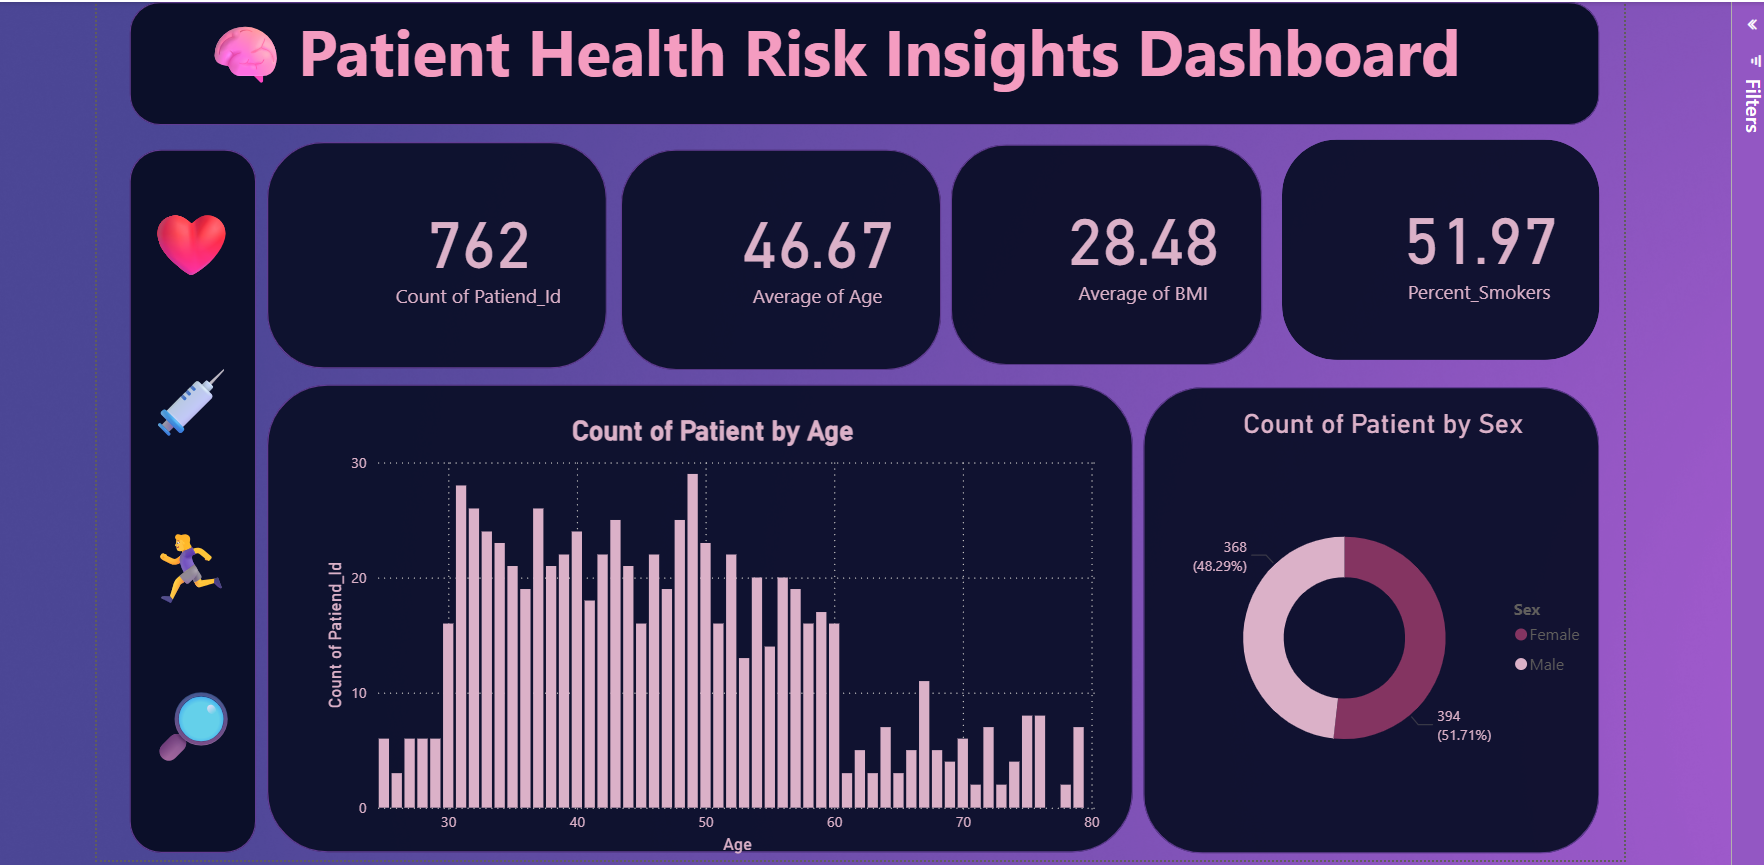

The dashboard page shown, as its layout file describes it:
{"tool":"powerbi","page":{"name":"Overview","canvas":[1280,720],"ordinal":0},"visuals":[{"type":"shape","box":[143.1,119.4,284.9,180.4],"z":0},{"type":"shape","box":[877.5,322.5,382.5,391.2],"z":1000},{"type":"card","fields":{"Values":["CountNonNull(CVD Dataset.Patiend_Id)"]},"box":[169.2,114.4,231.4,171.7],"z":2000},{"type":"shape","box":[142.5,321.2,726.2,392.5],"z":3000},{"type":"shape","box":[439.1,123.2,268.7,176.6],"z":4000},{"type":"shape","box":[716.5,119.4,261.2,180.4],"z":5000},{"type":"card","fields":{"Values":["Avg(CVD Dataset.Age)"]},"box":[461.5,123.2,223.9,160.5],"z":6000},{"type":"card","fields":{"Values":["Avg(CVD Dataset.BMI)"]},"box":[741.4,136.8,210.2,129.4],"z":7000},{"type":"donutChart","title":"Count of Patient by Sex","fields":{"Category":["CVD Dataset.Sex"],"Y":["CountNonNull(CVD Dataset.Patiend_Id)"]},"box":[900,340,358.8,361.2],"z":8000},{"type":"columnChart","title":"Count of Patient by Age","fields":{"Category":["CVD Dataset.Age"],"Y":["CountNonNull(CVD Dataset.Patiend_Id)"]},"box":[186.2,346.2,660,373.8],"z":9000},{"type":"shape","box":[993.9,123.2,266.2,176.6],"z":10000},{"type":"shape","box":[27.4,0,1232.8,103.2],"z":11000},{"type":"card","fields":{"Values":["CVD Dataset.Percent_Smokers"]},"box":[1006.4,133.1,241.3,135.6],"z":12000},{"type":"shape","box":[27.5,123.8,106.2,590],"z":13000},{"type":"textbox","box":[38.6,0,1209.1,93.3],"z":14000},{"type":"actionButton","box":[27.4,136.8,103.2,124.4],"z":15000},{"type":"actionButton","box":[27.4,273.7,103.2,121.9],"z":16000},{"type":"actionButton","box":[27.4,411.8,103.2,121.9],"z":17000},{"type":"actionButton","box":[29.9,543.6,103.2,121.9],"z":18000}]}

Visuals, with their boxes on the page's 1280x720 design canvas (x1, y1, x2, y2). These are canvas units, not pixel positions in the 1764x865 screenshot, which may show the page scaled, cropped or inside an application window:
shape: <region>143, 119, 428, 300</region>
shape: <region>878, 322, 1260, 714</region>
card - CountNonNull(CVD Dataset.Patiend_Id): <region>169, 114, 401, 286</region>
shape: <region>142, 321, 869, 714</region>
shape: <region>439, 123, 708, 300</region>
shape: <region>716, 119, 978, 300</region>
card - Avg(CVD Dataset.Age): <region>462, 123, 685, 284</region>
card - Avg(CVD Dataset.BMI): <region>741, 137, 952, 266</region>
"Count of Patient by Sex" donutChart: <region>900, 340, 1259, 701</region>
"Count of Patient by Age" columnChart: <region>186, 346, 846, 720</region>
shape: <region>994, 123, 1260, 300</region>
shape: <region>27, 0, 1260, 103</region>
card - CVD Dataset.Percent_Smokers: <region>1006, 133, 1248, 269</region>
shape: <region>28, 124, 134, 714</region>
textbox: <region>39, 0, 1248, 93</region>
actionButton: <region>27, 137, 131, 261</region>
actionButton: <region>27, 274, 131, 396</region>
actionButton: <region>27, 412, 131, 534</region>
actionButton: <region>30, 544, 133, 666</region>
